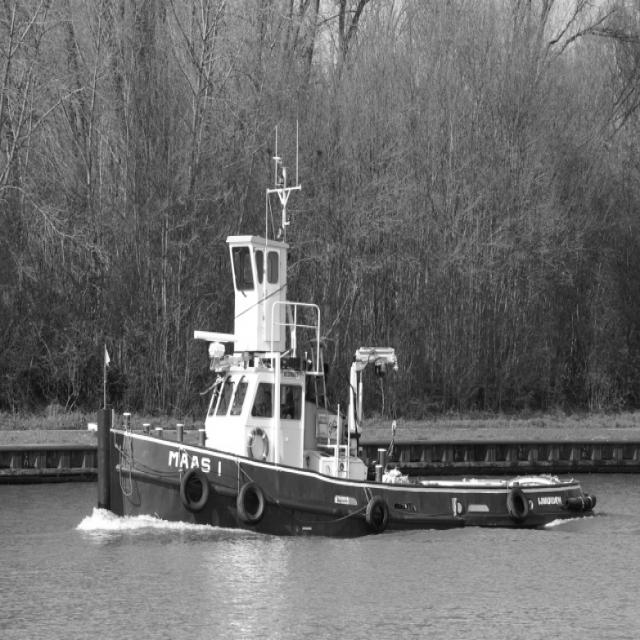tugboat: (90, 232, 602, 553)
